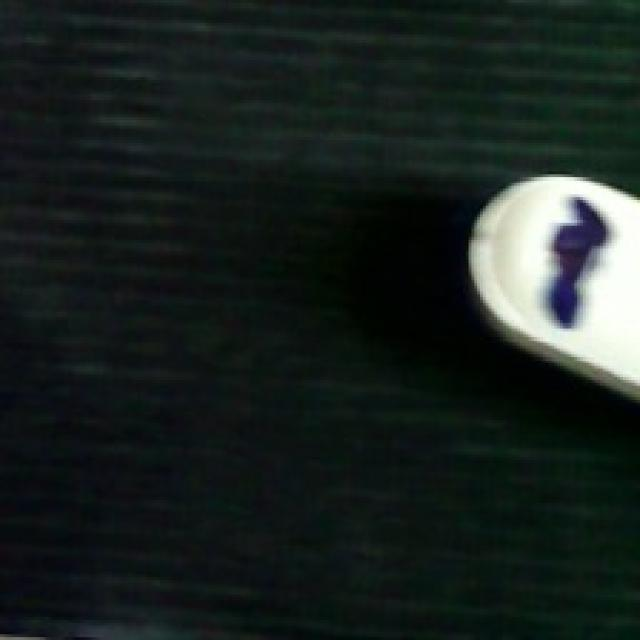defected: (463, 169, 640, 414)
